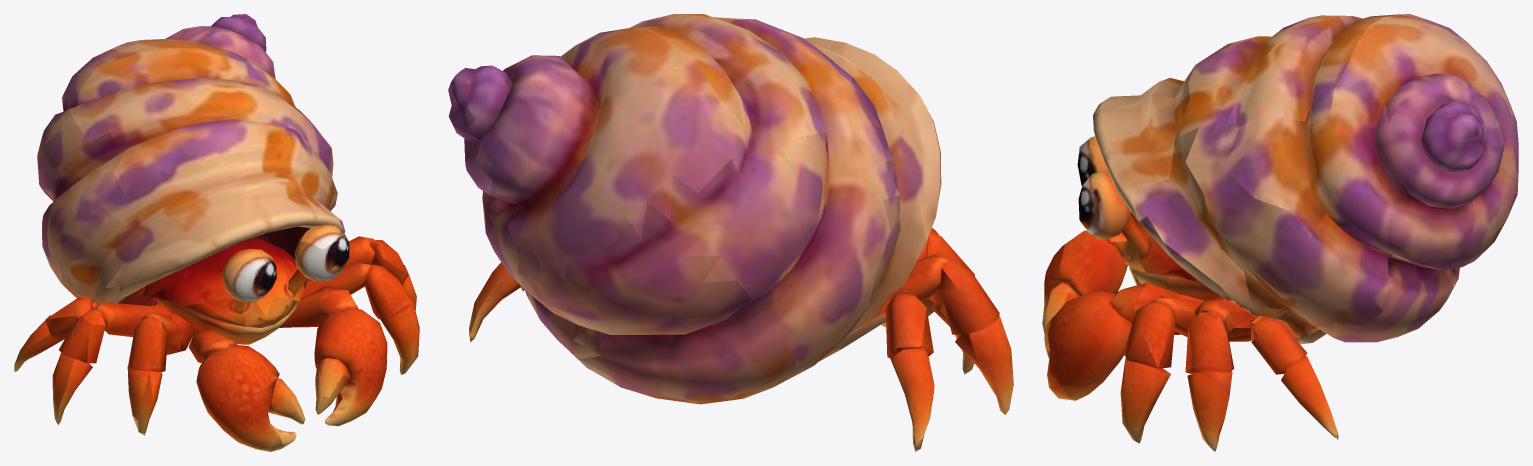
File: crab.glb
3 renders of one model, left to right at view 1: azimuth 30°, elevation 25°; view 2: azimuth 150°, elevation 25°; view 3: azimuth 270°, elevation 25°, orthographic. The views are drawn at different scales.
Bounding box in the file's own units: 1 × 0.8008 × 0.9746.
Materials: 1 (1 with a texture image).
